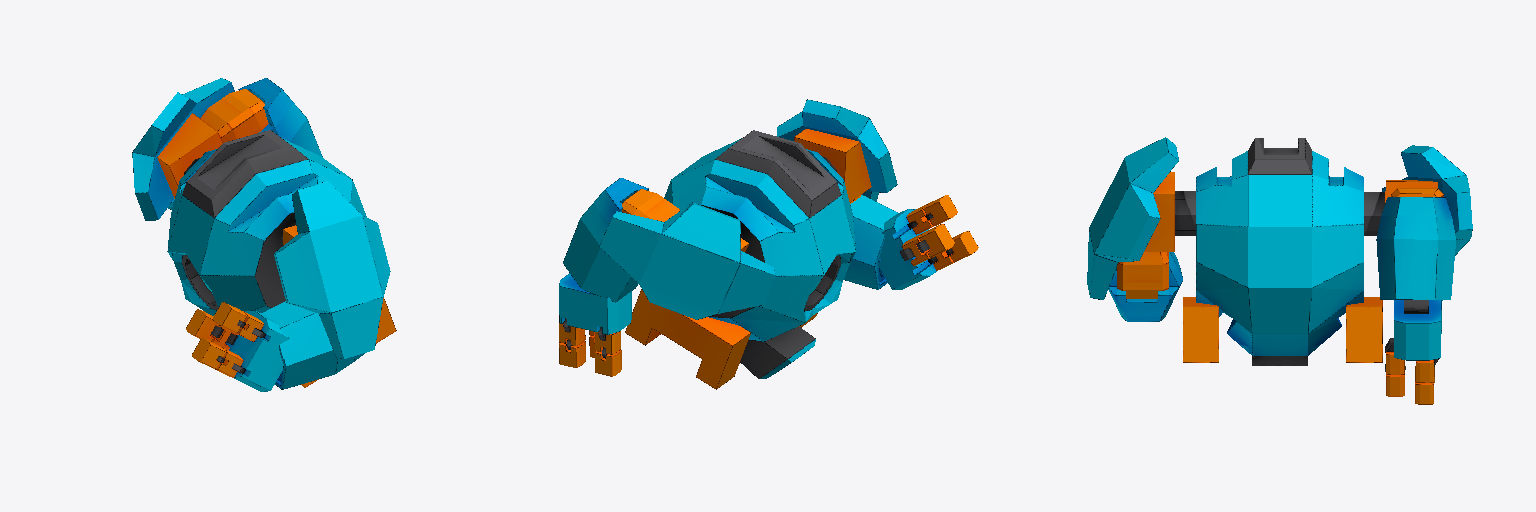
3 views of the same model, side by side, from view 1: azimuth 30°, elevation 25°; view 2: azimuth 150°, elevation 25°; view 3: azimuth 270°, elevation 25° (orthographic).
Parts seen in each view (by area): view 1: Plane001, Object006, Object002, Object008, Object007, Object003; view 2: Plane001, Object002, Object006, Object008, Object004, Object003, Object007; view 3: Plane001, Object006, Object003, Object004, Object002, Object007, Object005, Object001.
Boxes of the visible parts, x1,y1,x2,y2 form: Plane001: [167, 130, 396, 387]; Object006: [274, 181, 390, 358]; Object002: [132, 78, 268, 220]; Object008: [186, 302, 289, 391]; Object007: [261, 301, 364, 389]; Object003: [238, 78, 322, 156]; Plane001: [625, 130, 855, 389]; Object002: [599, 189, 775, 319]; Object006: [777, 99, 897, 203]; Object008: [878, 195, 978, 289]; Object004: [559, 273, 631, 376]; Object003: [563, 178, 648, 302]; Object007: [844, 195, 897, 289]; Plane001: [1183, 138, 1382, 365]; Object006: [1087, 137, 1178, 299]; Object003: [1376, 197, 1455, 300]; Object004: [1385, 300, 1441, 404]; Object002: [1382, 145, 1472, 255]; Object007: [1108, 252, 1182, 321]; Object005: [1175, 191, 1195, 235]; Object001: [1364, 192, 1384, 235].
Bounding box in the file's own units: 145 × 116 × 182.
Materials: 1 (1 with a texture image).